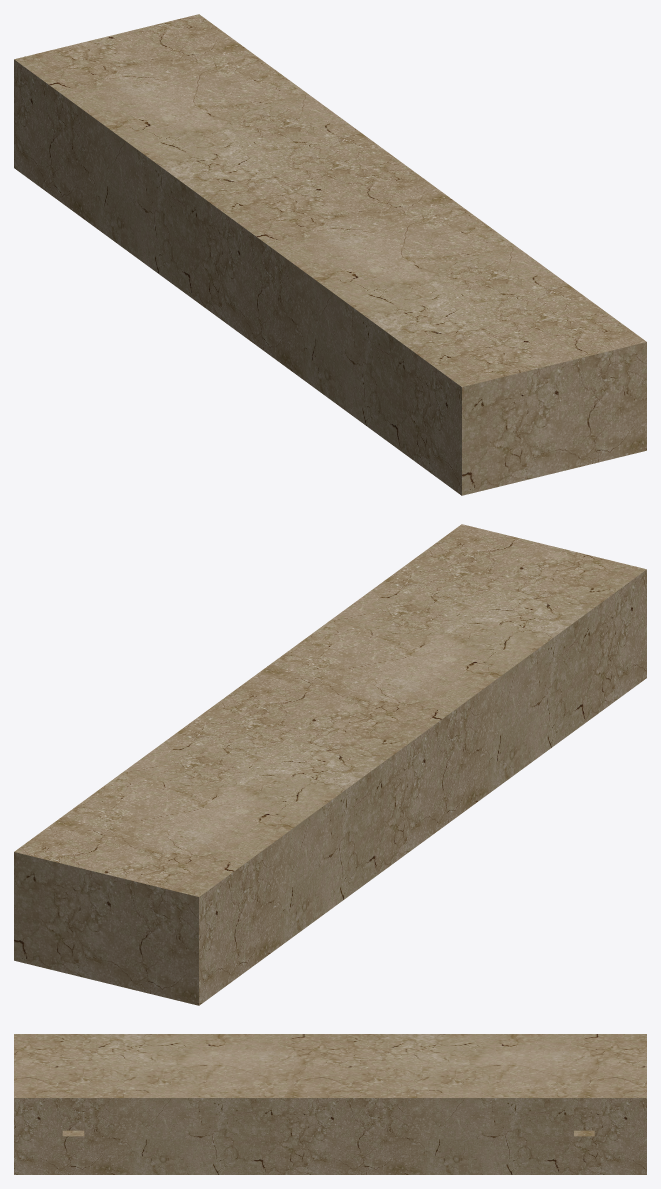
Rendered from pasted__stone_column_977.fbx.
3 views of the same model, one above another, from view 1: azimuth 30°, elevation 25°; view 2: azimuth 150°, elevation 25°; view 3: azimuth 270°, elevation 25° (orthographic). The views are drawn at different scales.
Parts seen in each view (by area): view 1: pasted__stone_column_977; view 2: pasted__stone_column_977; view 3: pasted__stone_column_977.
Part boxes in pixels (box(x1,y1,x2,y2)): pasted__stone_column_977: box(14, 14, 646, 495); pasted__stone_column_977: box(14, 524, 646, 1005); pasted__stone_column_977: box(14, 1034, 646, 1174).
Size of the model in its own units: 154 by 647 by 86.71.
